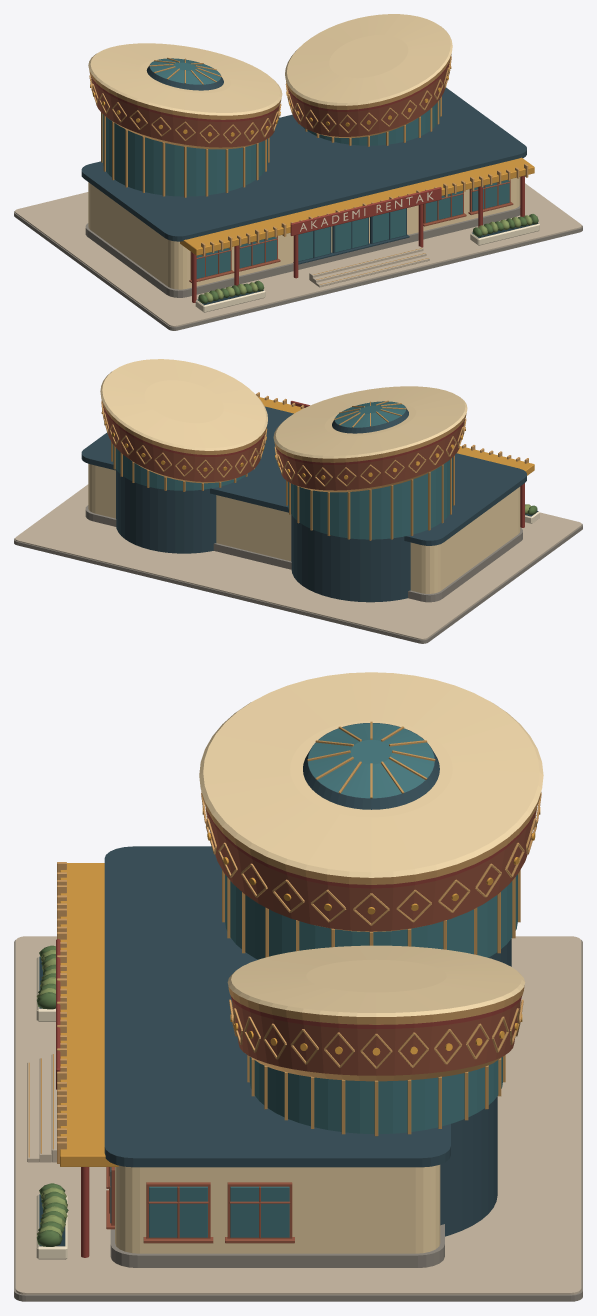
The picture shows the model from 3 angles, top to bottom: view 1: azimuth 30°, elevation 25°; view 2: azimuth 150°, elevation 25°; view 3: azimuth 270°, elevation 25°; orthographic projection. The views are drawn at different scales.
Parts seen in each view (by area): view 1: Teaching Wing, Drumhead Roofs, Music Court, Kompang Studios, Carved Acoustic Screens; view 2: Kompang Studios, Drumhead Roofs, Teaching Wing, Music Court, Carved Acoustic Screens; view 3: Teaching Wing, Drumhead Roofs, Music Court, Kompang Studios, Carved Acoustic Screens.
Part boxes in pixels (box(x1,y1,x2,y2)): Teaching Wing: box(81, 87, 534, 302); Drumhead Roofs: box(88, 14, 452, 115); Music Court: box(14, 183, 582, 330); Kompang Studios: box(89, 54, 451, 196); Carved Acoustic Screens: box(89, 56, 451, 197); Kompang Studios: box(101, 398, 466, 602); Drumhead Roofs: box(100, 359, 467, 458); Teaching Wing: box(81, 392, 534, 602); Music Court: box(14, 484, 582, 643); Carved Acoustic Screens: box(101, 401, 466, 540); Teaching Wing: box(56, 846, 450, 1267); Drumhead Roofs: box(199, 672, 543, 1016); Music Court: box(14, 936, 582, 1301); Kompang Studios: box(201, 791, 541, 1236); Carved Acoustic Screens: box(201, 792, 541, 1136).
Bounding box in the file's own units: 28.6 × 11.14 × 19.2.
